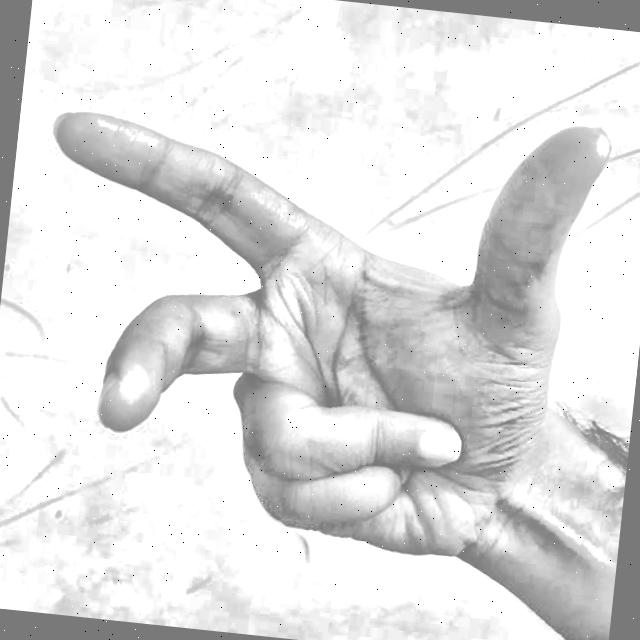Da: (0, 2, 632, 638)
